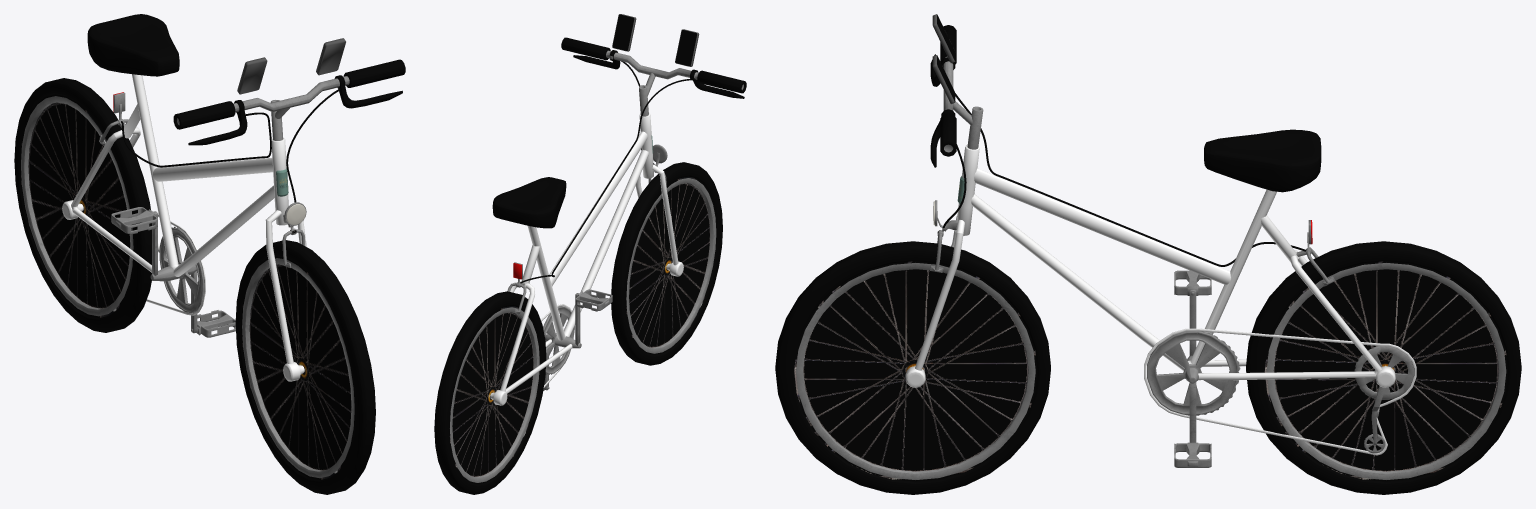
Rendered from low_poly_bicycle.glb.
3 renders of one model, left to right at view 1: azimuth 30°, elevation 25°; view 2: azimuth 150°, elevation 25°; view 3: azimuth 270°, elevation 25°, orthographic. The views are drawn at different scales.
Parts seen in each view (by area): view 1: Plane.013, GPS, BezierCurve.001; view 2: Plane.013, GPS, BezierCurve.001; view 3: Plane.013, BezierCurve.001, GPS.
Boxes of the visible parts, box(x1,y1,x2,y2) form: Plane.013: box(14, 14, 405, 494); GPS: box(237, 38, 345, 94); BezierCurve.001: box(121, 112, 271, 167); Plane.013: box(434, 37, 746, 494); GPS: box(612, 14, 699, 66); BezierCurve.001: box(520, 79, 690, 283); Plane.013: box(775, 25, 1521, 494); BezierCurve.001: box(955, 93, 1306, 266); GPS: box(932, 14, 955, 104).
Size of the model in its own units: 0.6038 by 1.1 by 1.63.
9 materials, 5 textured.
